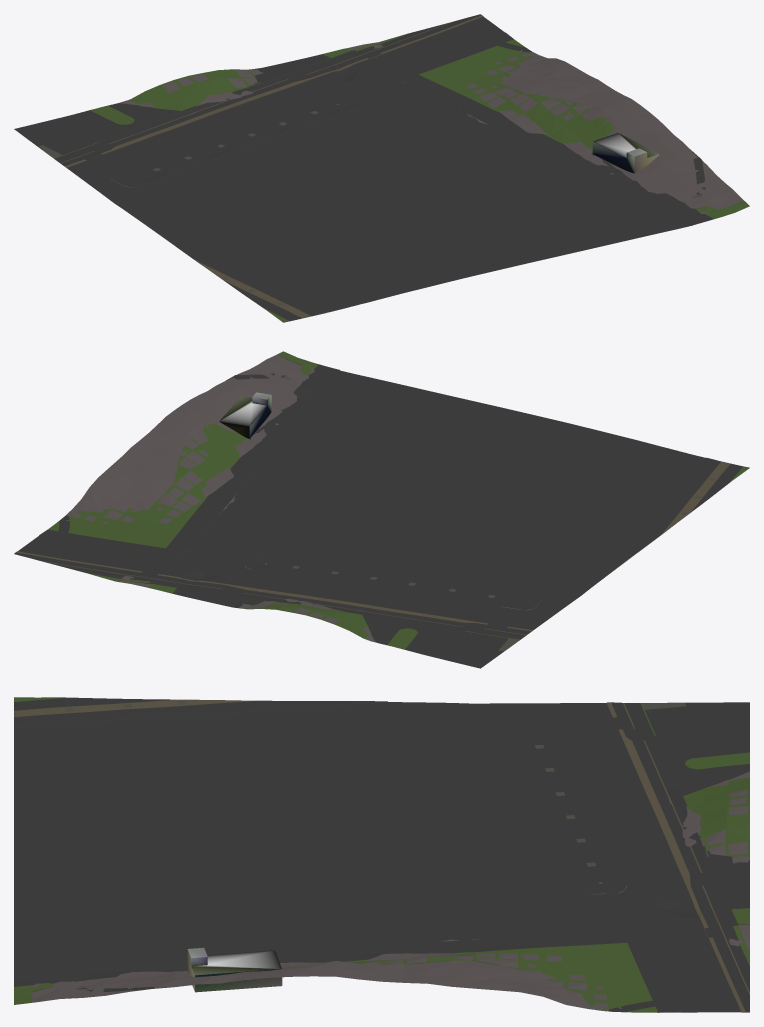
3 renders of one model, top to bottom at view 1: azimuth 30°, elevation 25°; view 2: azimuth 150°, elevation 25°; view 3: azimuth 270°, elevation 25°, orthographic. The views are drawn at different scales.
Parts seen in each view (by area): view 1: c_m11_m13; view 2: c_m11_m13; view 3: c_m11_m13.
Boxes of the visible parts, x1,y1,x2,y2 form: c_m11_m13: (14, 14, 749, 322); c_m11_m13: (14, 351, 749, 668); c_m11_m13: (14, 697, 749, 1012).
Bounding box in the file's own units: 128 × 8.06 × 128.
